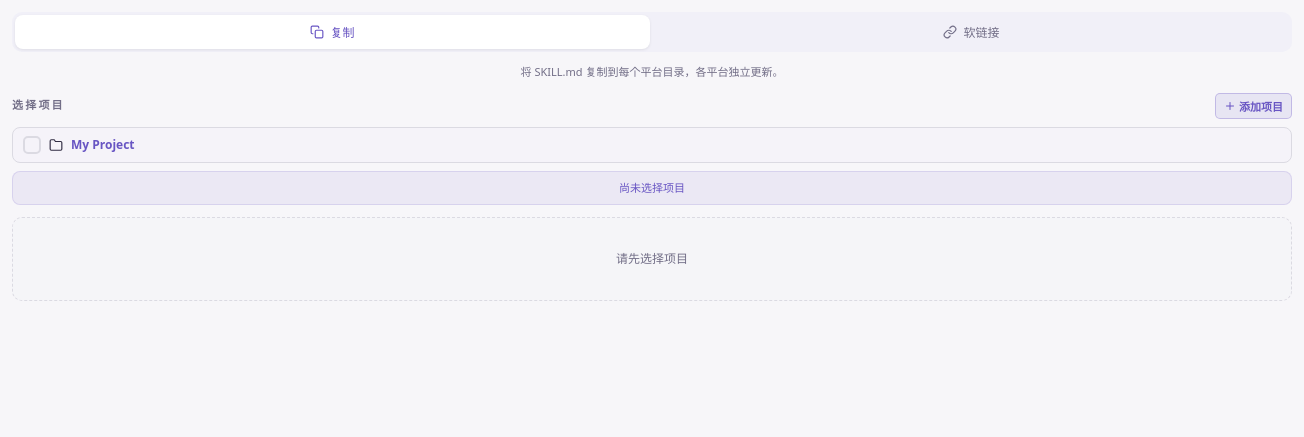
Test: ProjectDistPanel › shows selected projects hint
Check: the text with class "selected-projects-hint" reads "尚未选择项目", box x1=619 y1=180 x2=685 y2=194
Click the element showing "My Project": (652, 144) x1=12 y1=126 x2=1292 y2=162
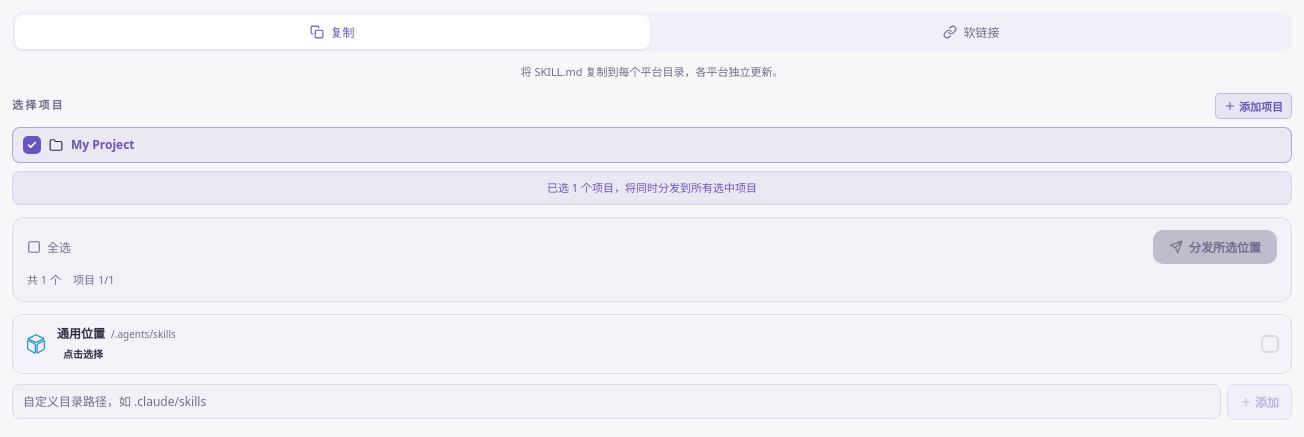
Check: the text with class "selected-projects-hint" shows "已选 1", box x1=547 y1=180 x2=757 y2=194
